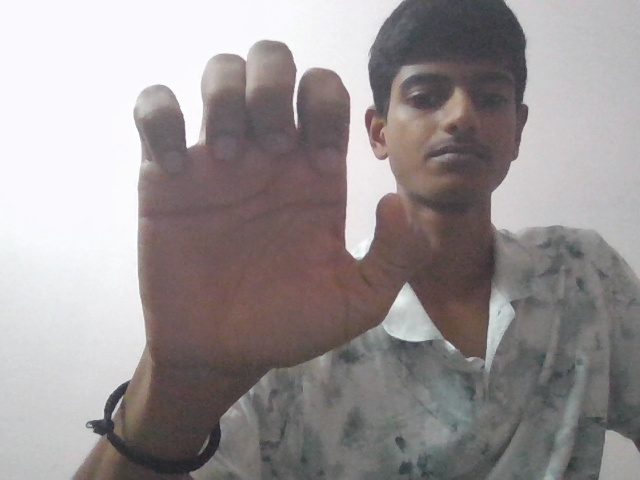yes: (122, 32, 407, 393)
